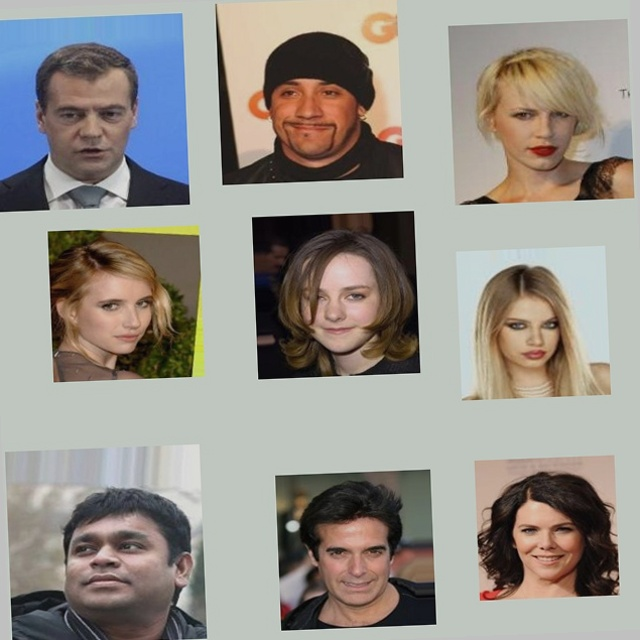celeb_10002: (456, 263, 611, 418)
celeb_2336: (257, 472, 419, 633)
celeb_2619: (8, 0, 207, 195)
celeb_2970: (50, 211, 207, 368)
celeb_3: (234, 0, 422, 186)
celeb_4422: (254, 213, 423, 381)
celeb_5695: (458, 473, 603, 619)
celeb_7: (0, 427, 190, 629)
celeb_797: (464, 37, 640, 224)
